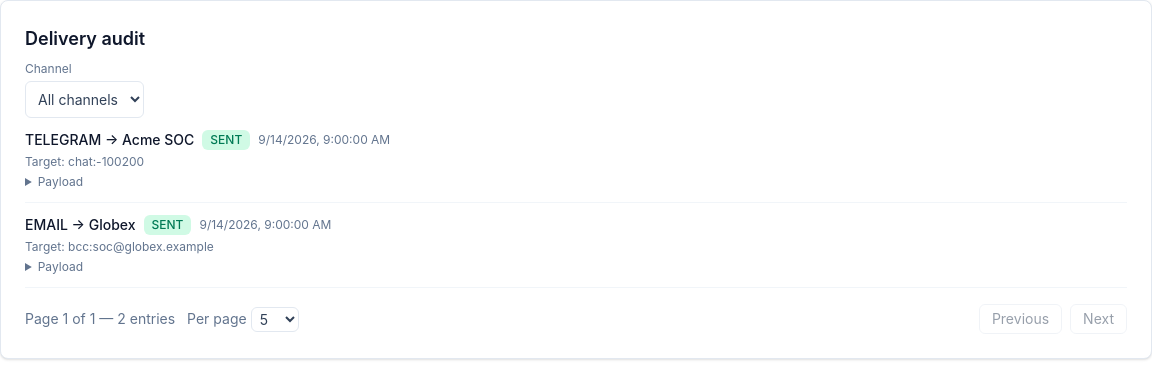
it: TASK-UXT: audit channel filter › filters the fetched page client-side when a channel is chosen
This screenshot has width=1152, height=377.
Expected: the text "TELEGRAM → Acme SOC" is shown, [25, 130, 194, 150]
Expected: the text "EMAIL → Globex" is shown, [25, 215, 136, 235]
TELEGRAM is picked in the channel filter
Select "TELEGRAM" in the dropdown named "Filter by channel" at (84, 100), box [25, 81, 144, 118]
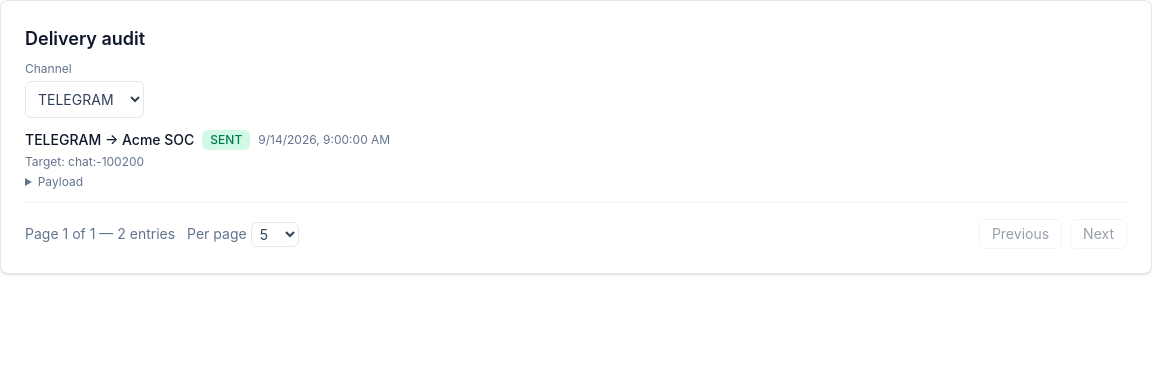
Expected: the text "TELEGRAM → Acme SOC" is shown, [25, 130, 194, 150]
Now the text "Globex" is gone
